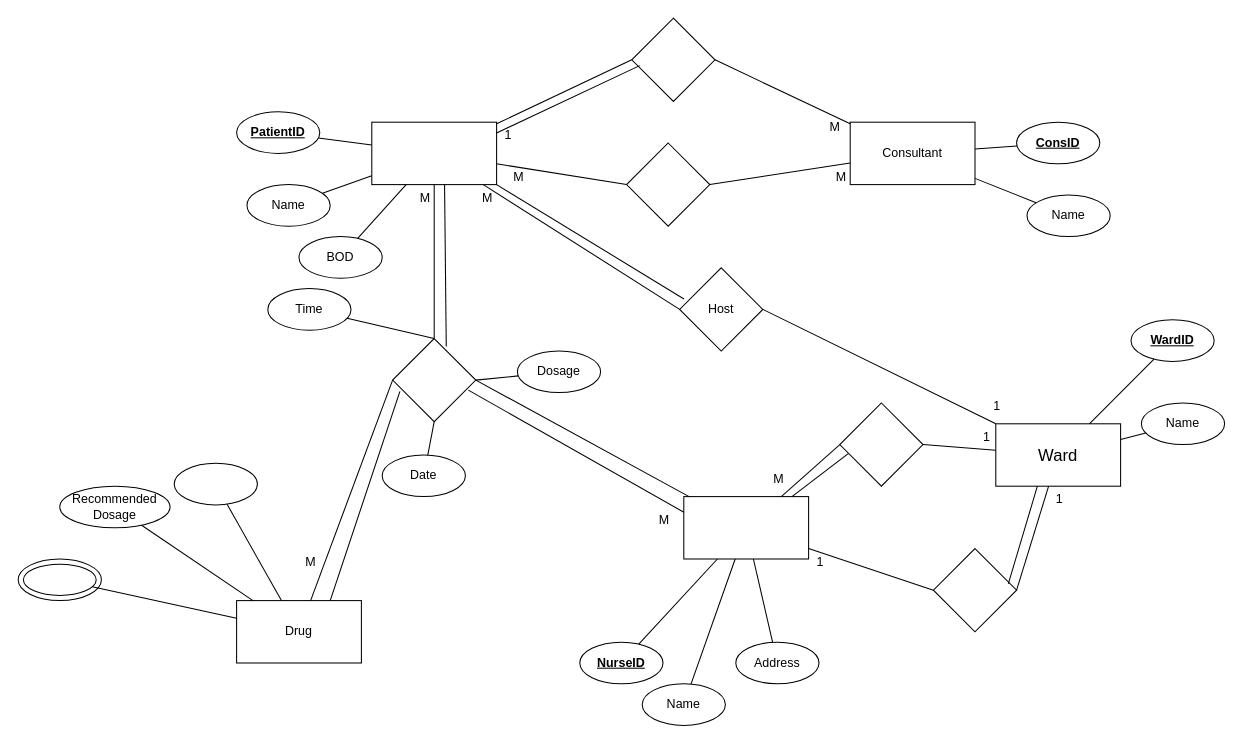
This 1243x744 diagram has some shape labels left out. Here are the shapes that lost their labels. From the top down, the box of each, then its label:
(631, 17, 715, 101): Laeds
(371, 121, 497, 185): Patient
(626, 142, 710, 226): Examine
(392, 337, 476, 422): Give
(839, 402, 923, 486): Serve
(173, 462, 257, 505): Drug Code
(683, 496, 809, 559): Nurse
(22, 563, 96, 595): BrandName
(932, 548, 1017, 632): Supervise
